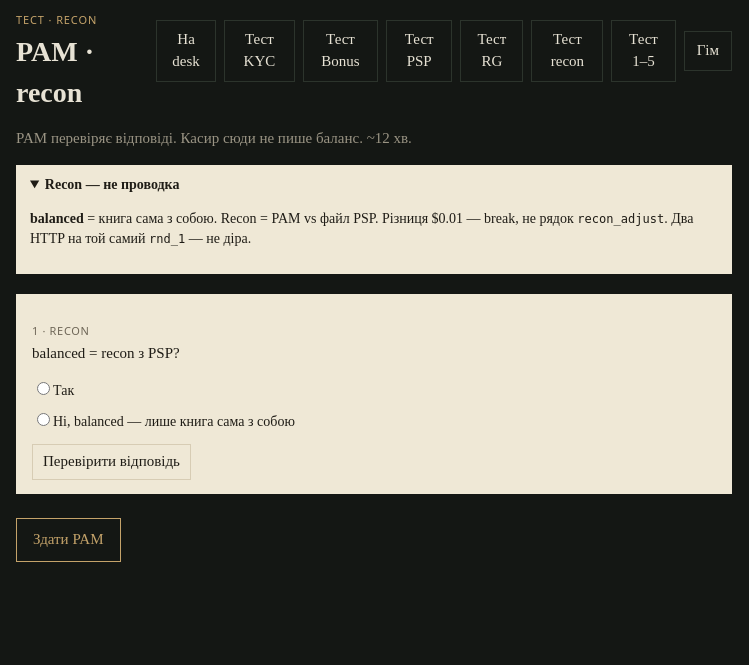
Test: recon exam submits to PAM grade
Expected: the text "balanced = recon з PSP?" is shown, [32,345,180,361]
Click the radio button labelled "Ні, balanced — лише книга сама з собою": (44, 419) [37,413,50,426]
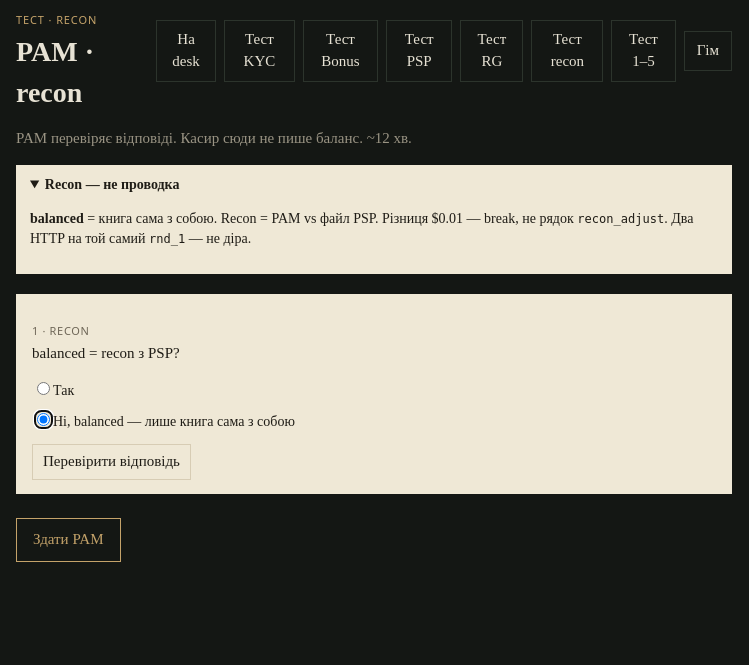
Click the button with test id "exam-submit": (68, 540) [16,518,120,562]
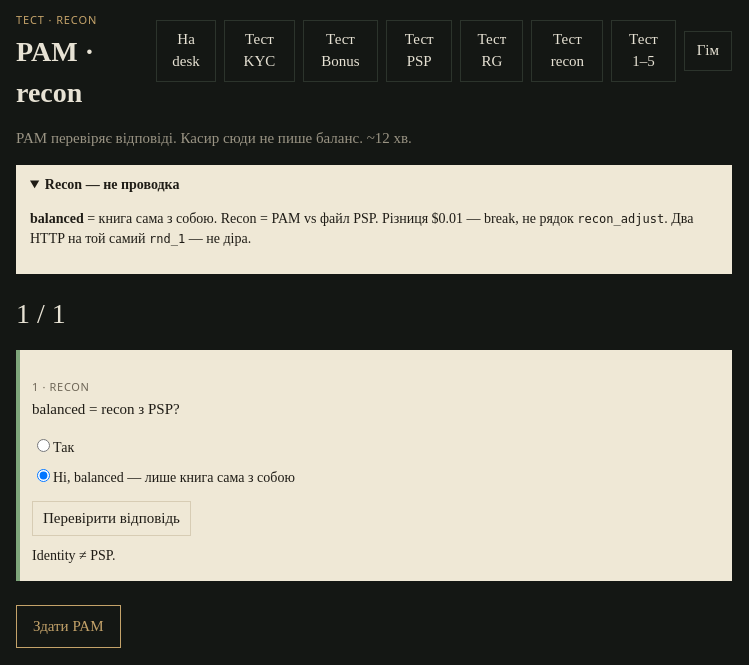
Expected: the text with test id "exam-score" reads "1 / 1", [16,298,66,329]
